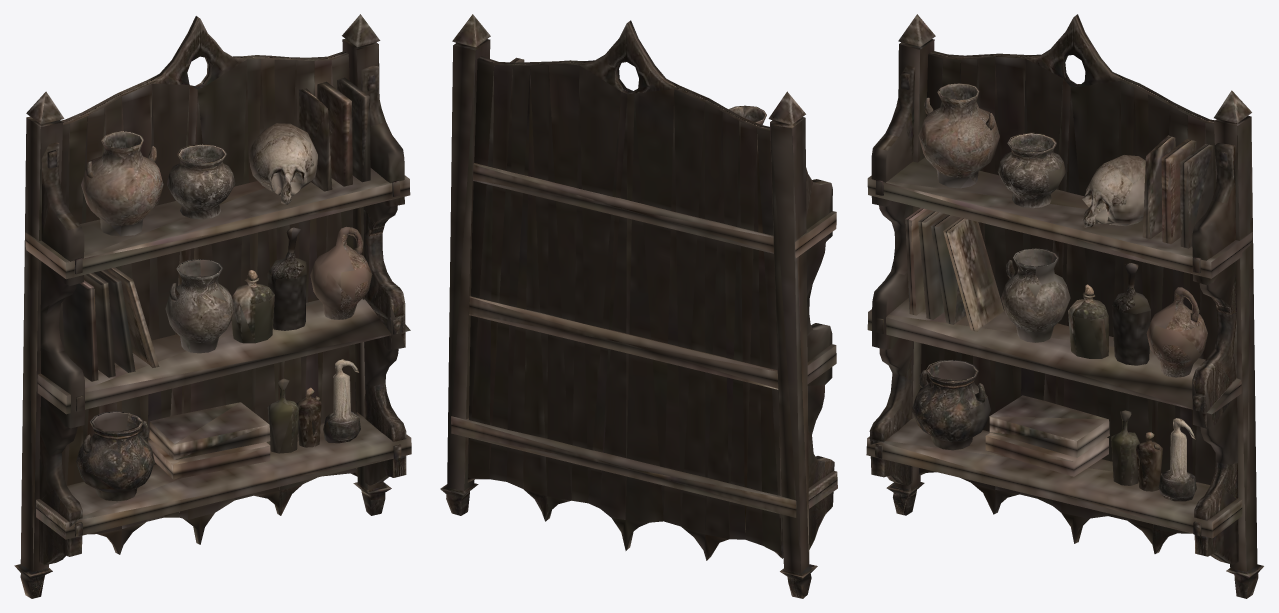
Rendered from d_shelves.glb.
The picture shows the model from 3 angles, left to right: view 1: azimuth 30°, elevation 25°; view 2: azimuth 150°, elevation 25°; view 3: azimuth 330°, elevation 25°; orthographic projection.
Visible parts, largest first — view 1: d_shelves; view 2: d_shelves; view 3: d_shelves.
Part boxes in pixels (x1=…): d_shelves: x1=14, y1=14, x2=411, y2=598; d_shelves: x1=440, y1=14, x2=837, y2=598; d_shelves: x1=866, y1=14, x2=1263, y2=598.
Size of the model in its own units: 1.39 by 1.95 by 0.3018.
1 material, 1 textured.
